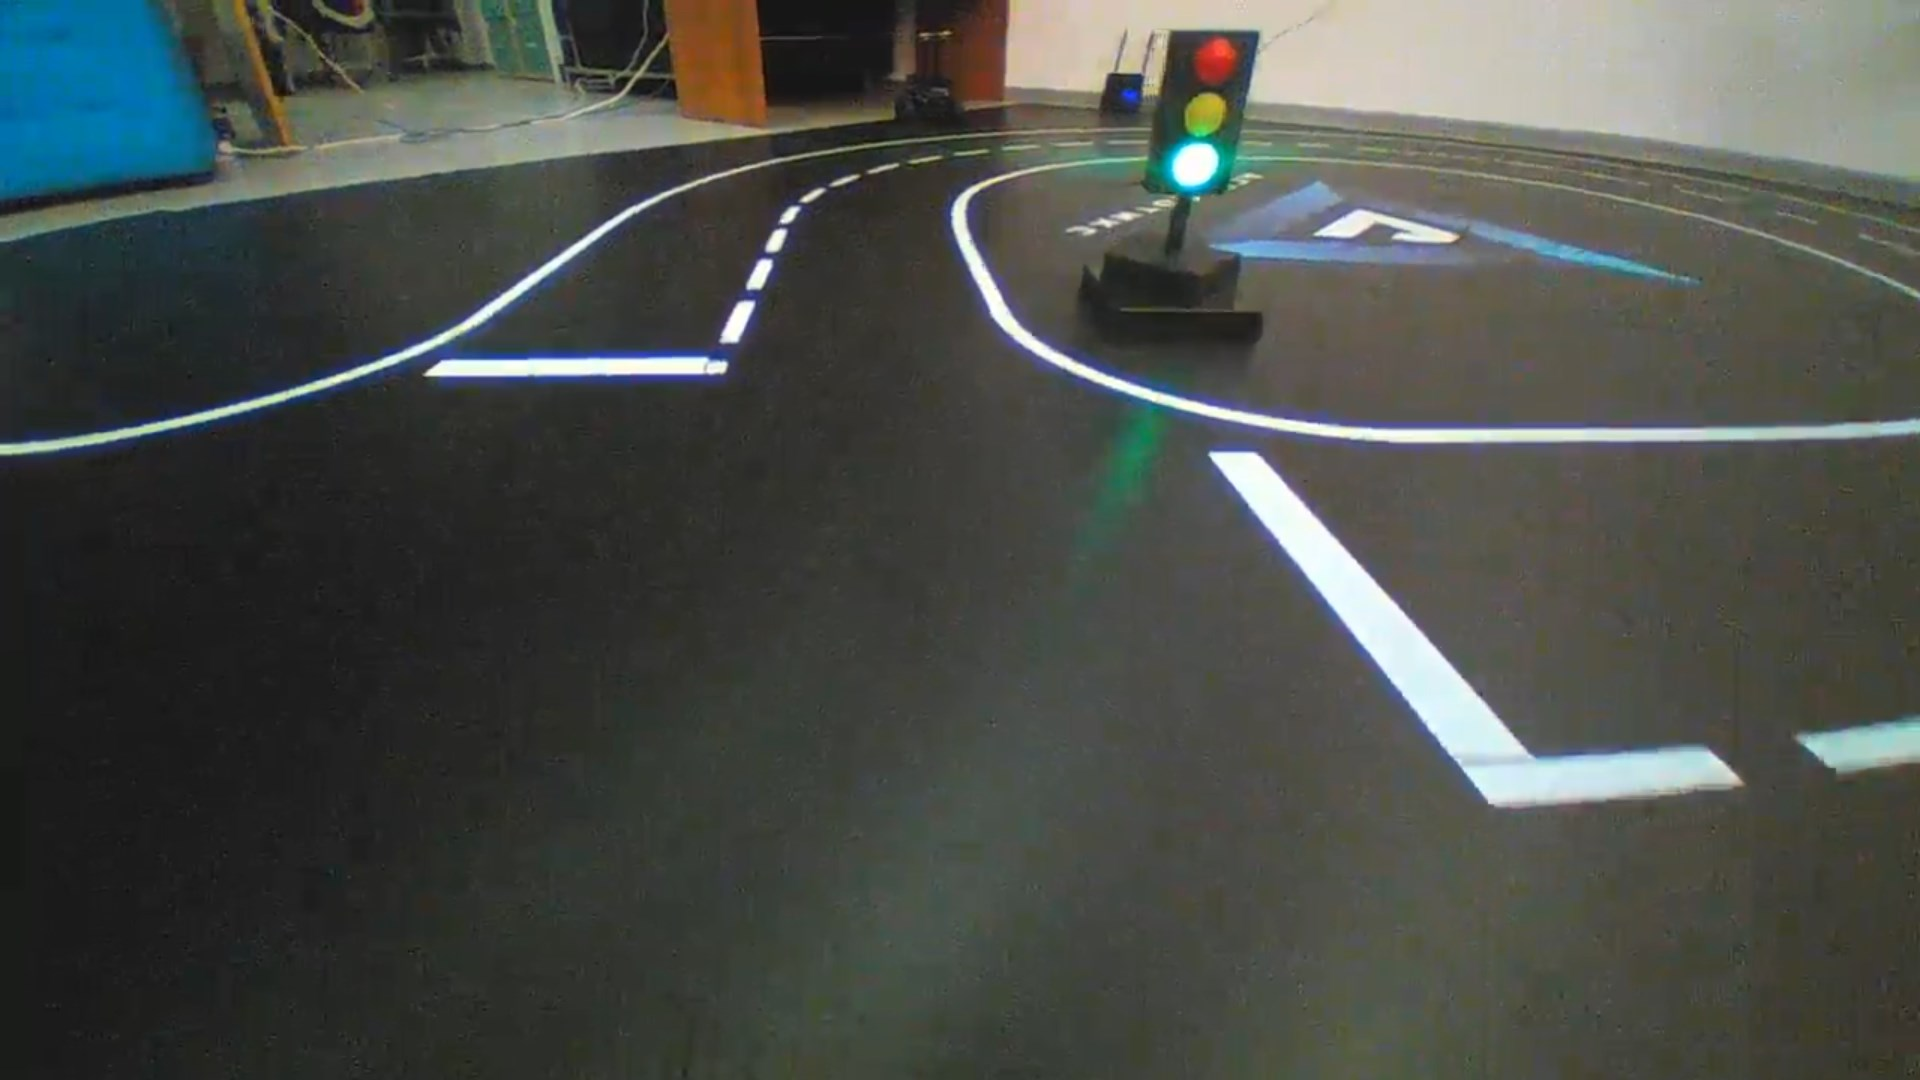trafficlight: (1139, 28, 1261, 196)
